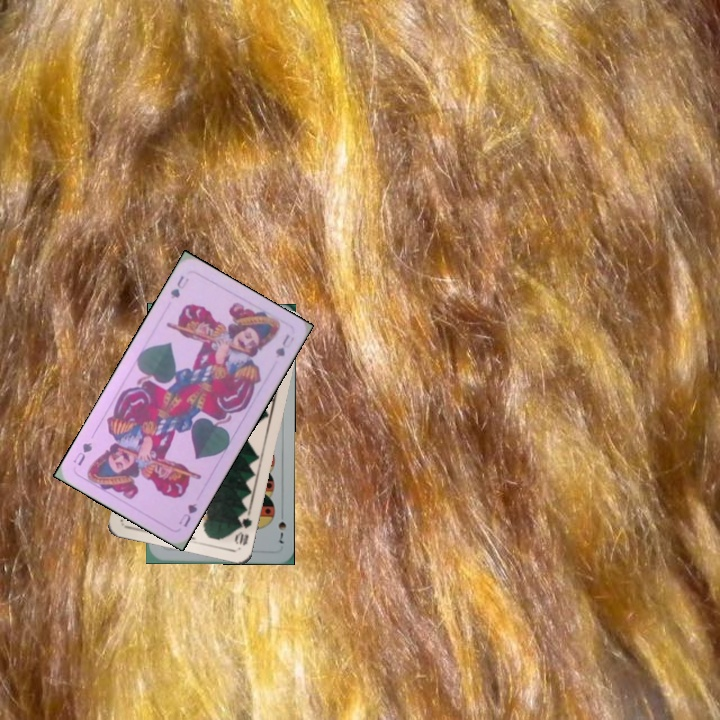G10: (230, 508, 254, 548)
GU: (166, 271, 192, 302), (175, 499, 200, 530)
S7: (274, 507, 288, 546)
